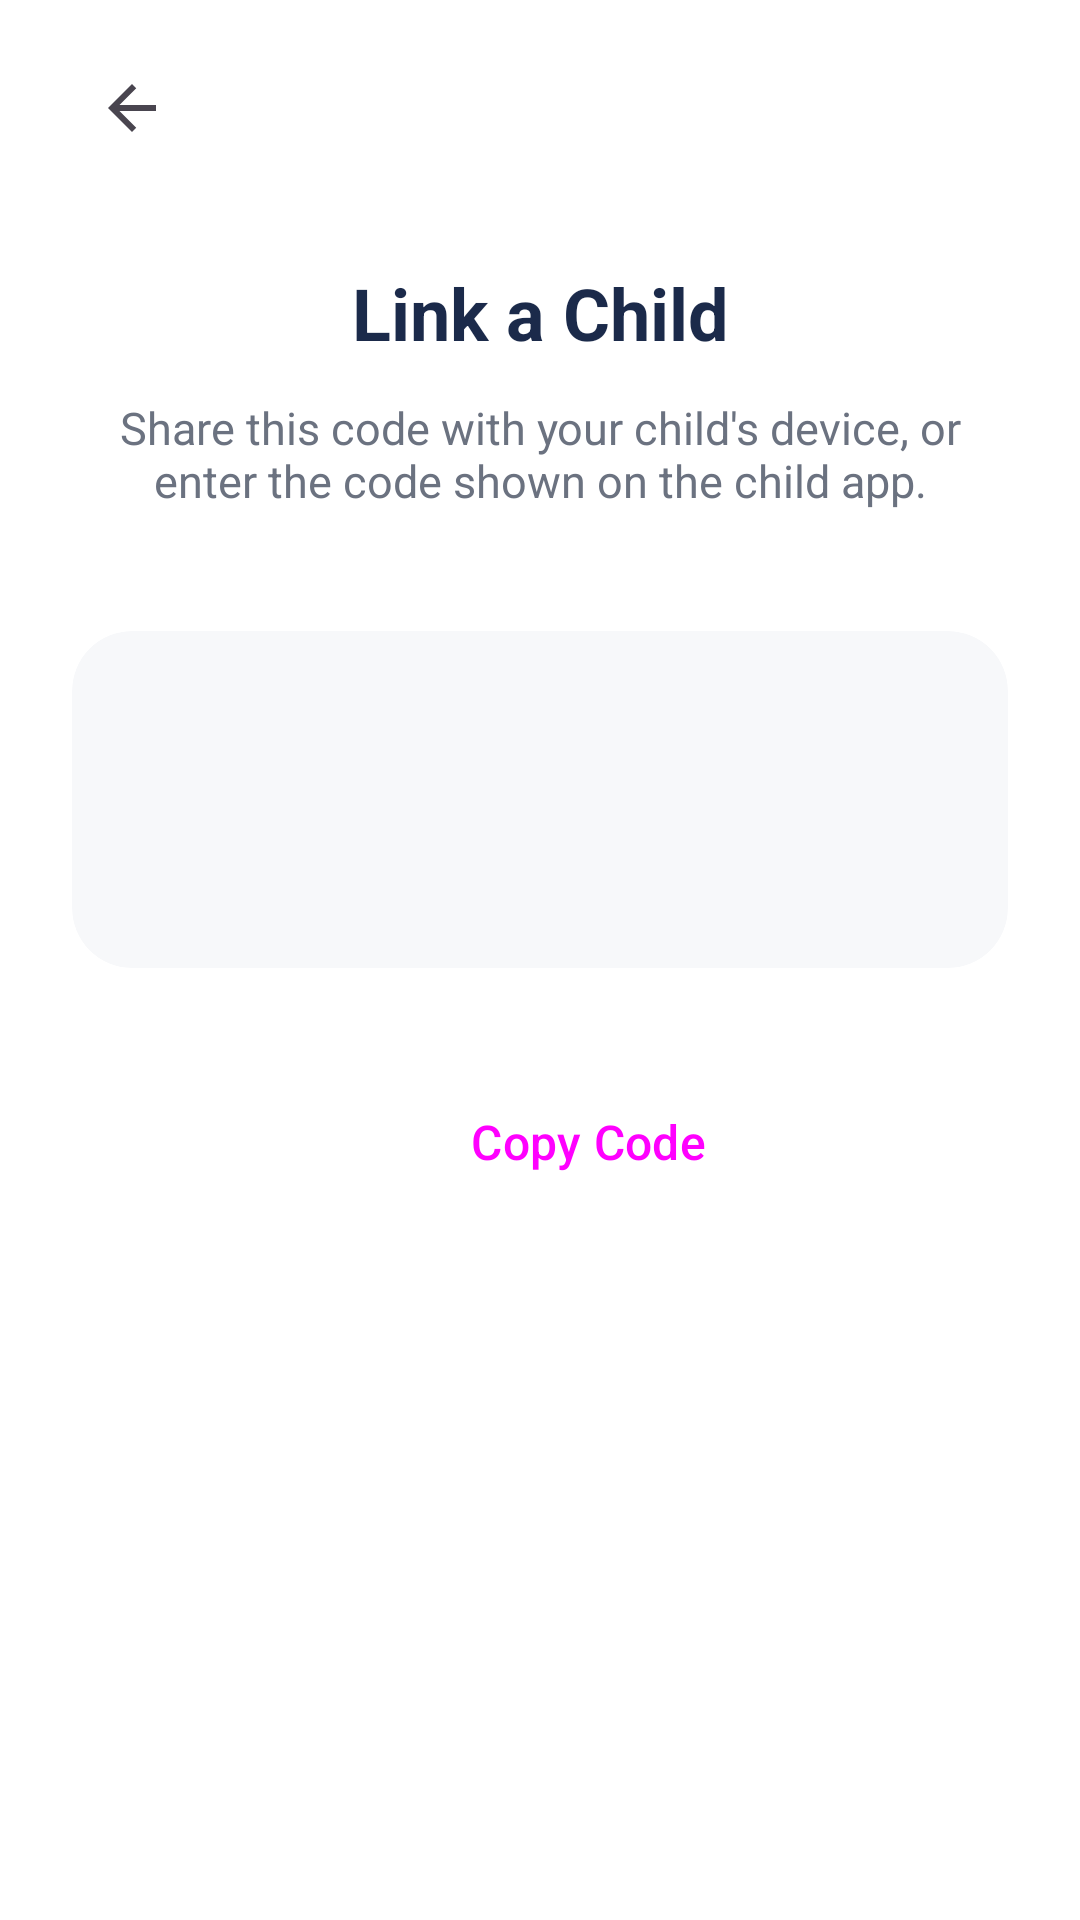

Named icons in this screenshot (1080px×1920px) and their bounding boxes, [x1,y1,x2,y2]:
Back: [108,84,156,132]
